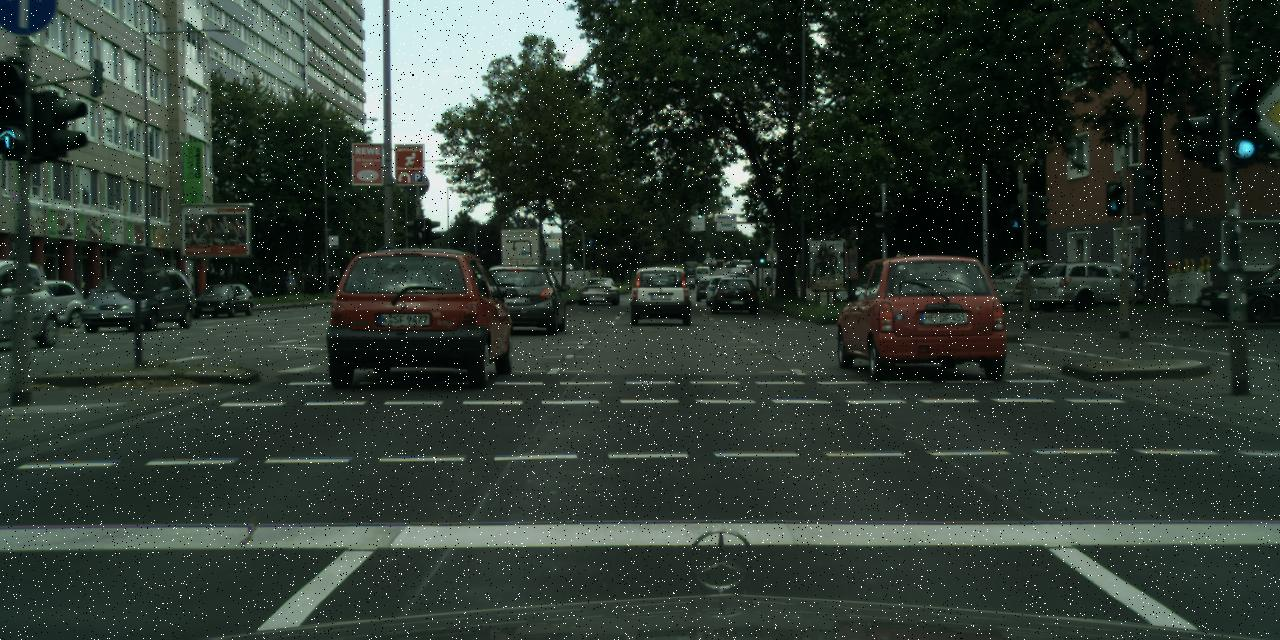ped: (886, 252, 918, 329), (1127, 247, 1150, 304), (1193, 249, 1213, 298), (284, 270, 294, 296), (295, 274, 303, 294)
